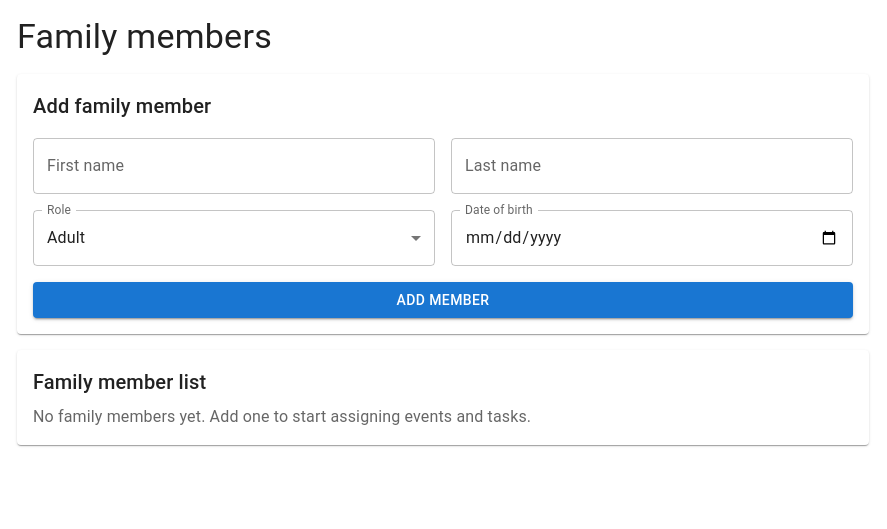
Scenario: FamilyMembersPage › shows validation error when required fields are missing
Expected: the heading "Family members" is shown, 17,16 -> 272,56
What coordinates should you click on to do the following:
click the button "Add member"
I would click on:
 (443, 300)
Its box is 33,282 -> 853,318.
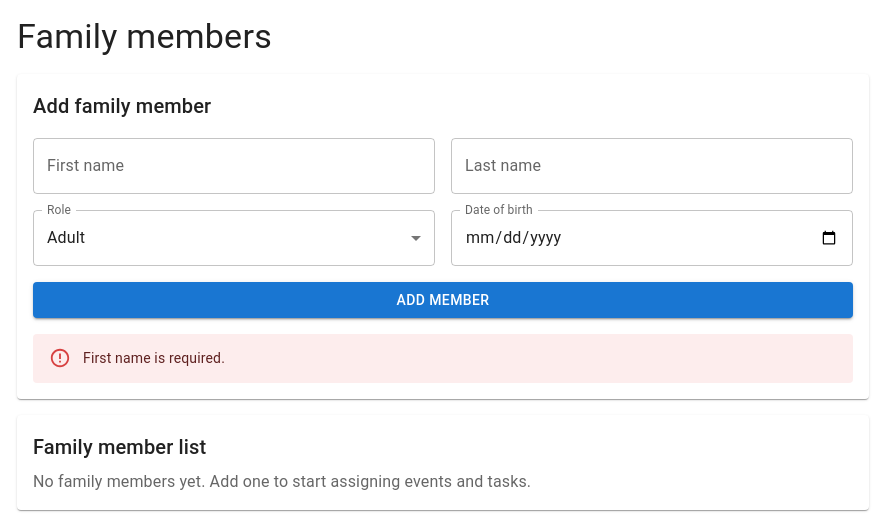
Result: the text "First name is required." is shown at 83,350 -> 225,366
